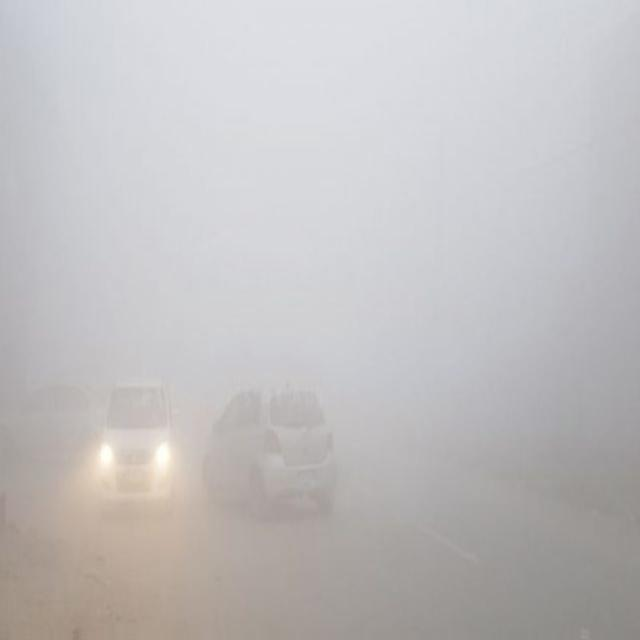car: (203, 377, 337, 515), (97, 378, 177, 516), (1, 372, 108, 470)
